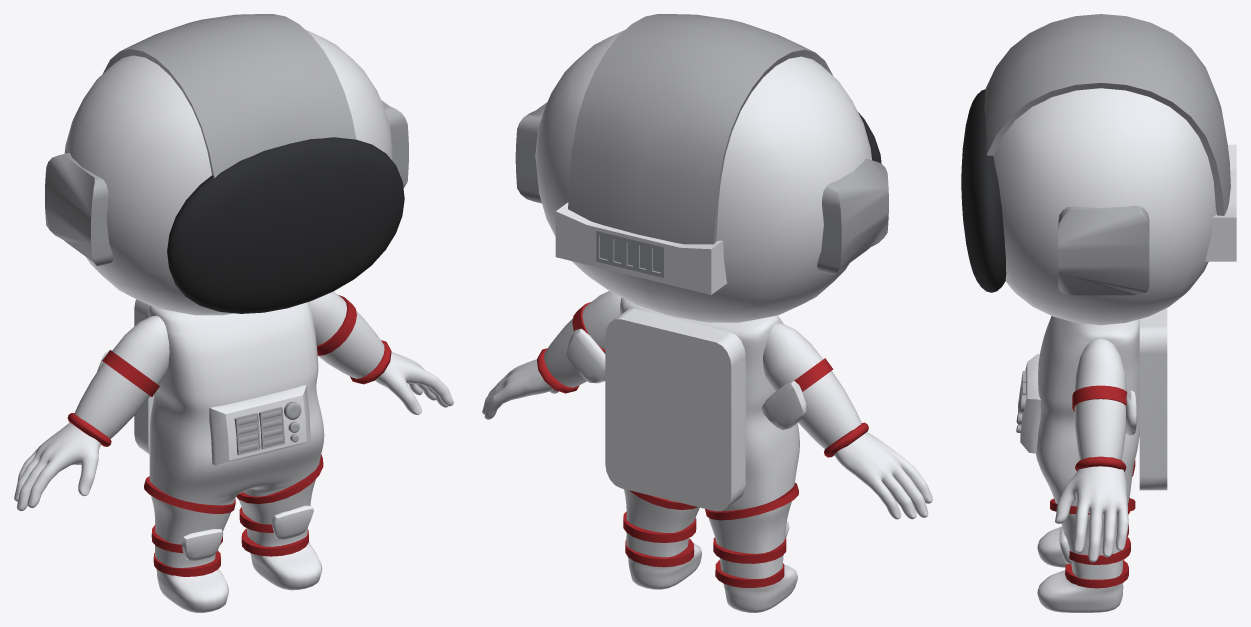
The model's file is cute_astronaut.glb.
3 renders of one model, left to right at view 1: azimuth 30°, elevation 25°; view 2: azimuth 150°, elevation 25°; view 3: azimuth 270°, elevation 25°, orthographic. The views are drawn at different scales.
Parts seen in each view (by area): view 1: Body; view 2: Body; view 3: Body.
Part boxes in pixels (x1,y1,x2,y2): Body: [14, 14, 453, 612]; Body: [482, 14, 932, 612]; Body: [961, 14, 1236, 612].
Bounding box in the file's own units: 8.59 × 10.53 × 4.81.
1 material, 1 textured.
